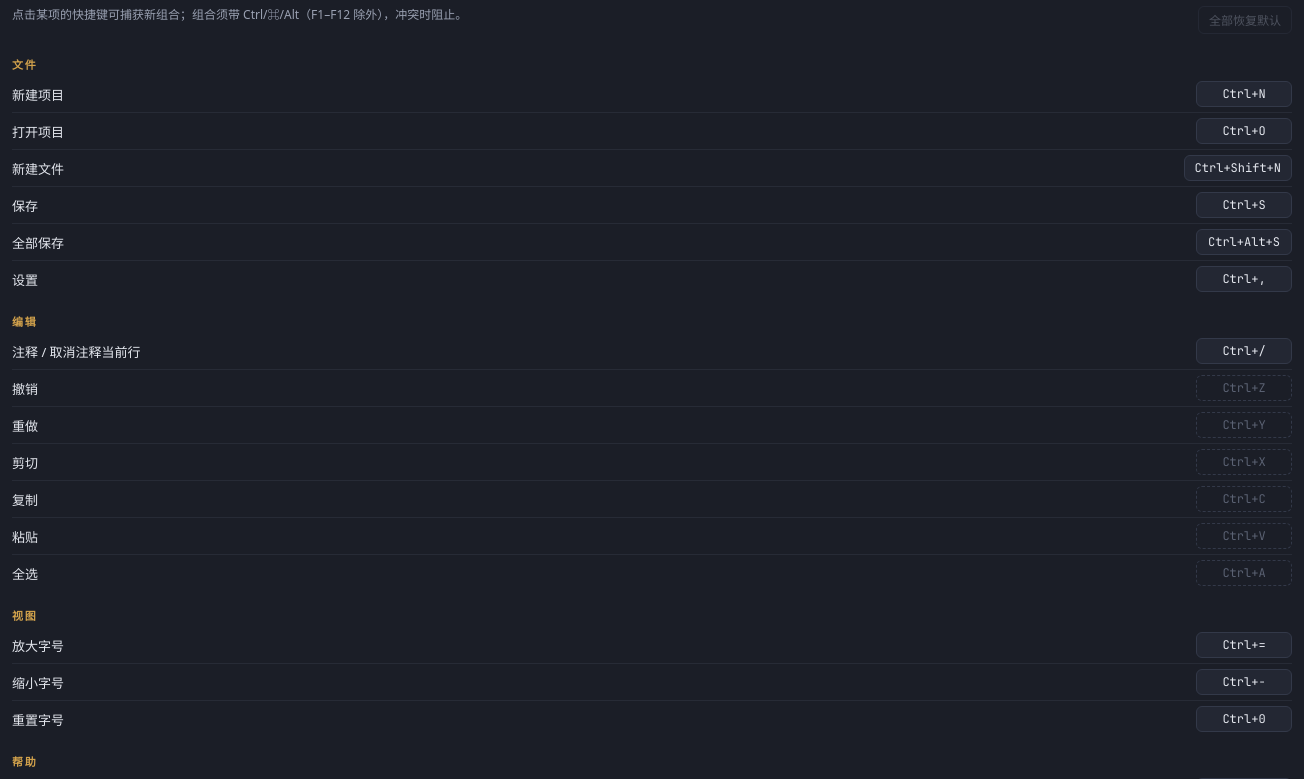
Test case: ShortcutsSettings › 非法组合（裸字母）被阻止
The width and height of the screenshot is (1304, 779).
Click the button with aria-label "修改「保存」快捷键".
click(1244, 205)  # box [1196,192,1292,218]
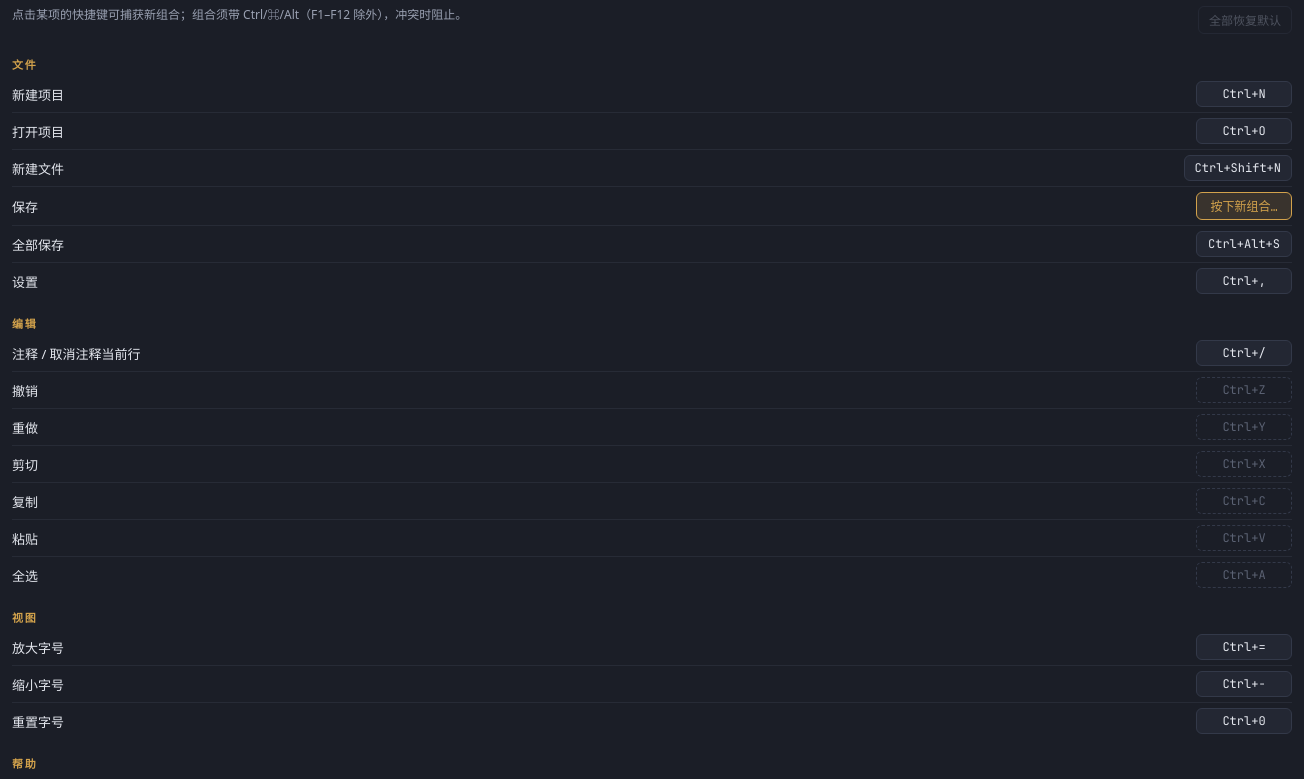
Press k in the button with aria-label "修改「保存」快捷键", box [1196,192,1292,220]
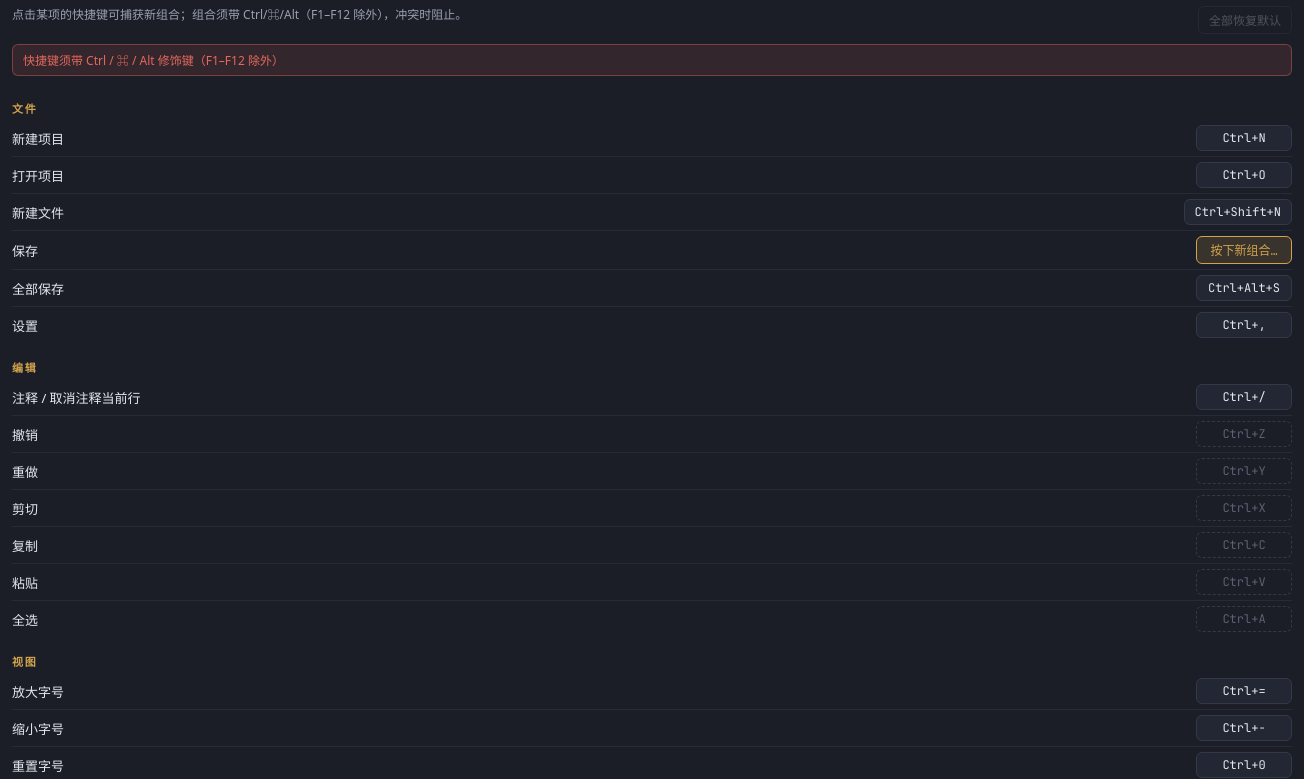
Result: the message "快捷键须带 Ctrl / ⌘ / Alt 修饰键（F1–F12 除外）" is shown at [12,44,1292,76]
